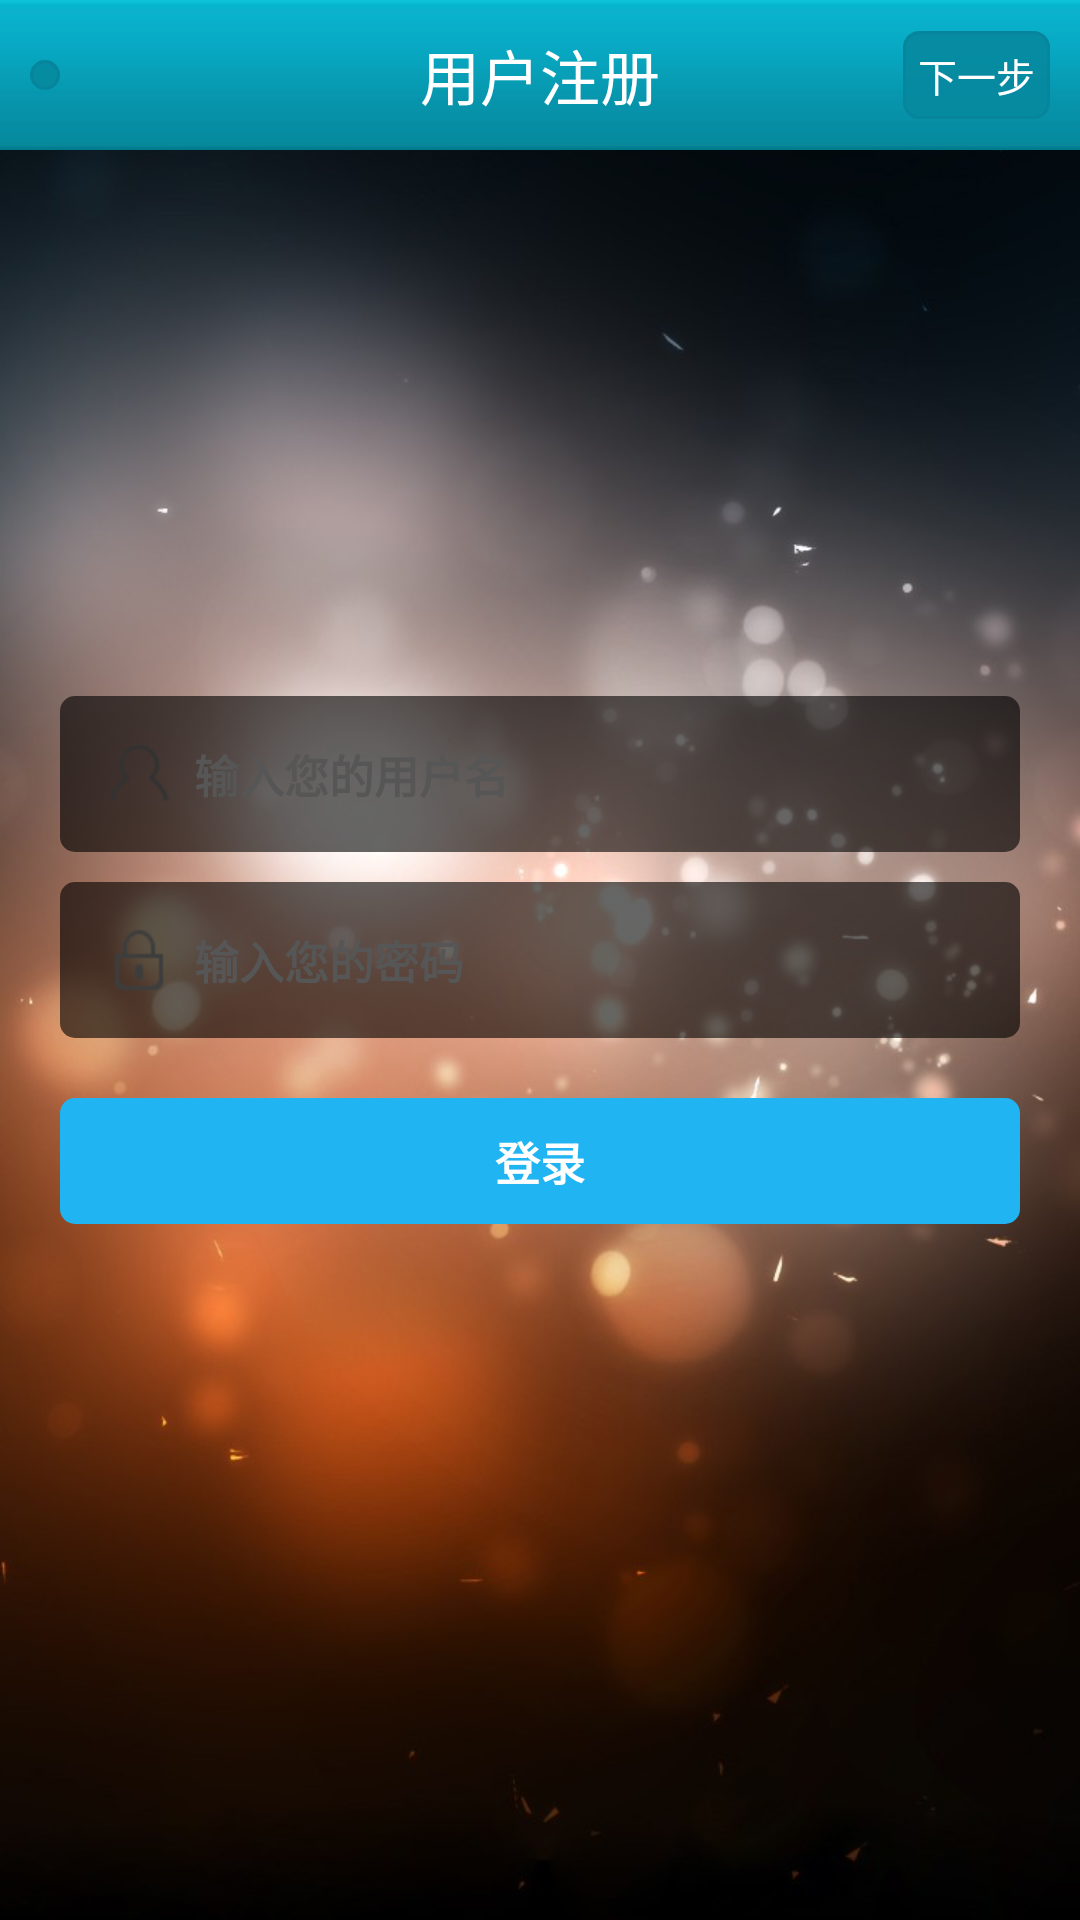

Point at icon controls on the screen. Image size 1080*1920, points as (x,y).
login pwd: (139,960)
